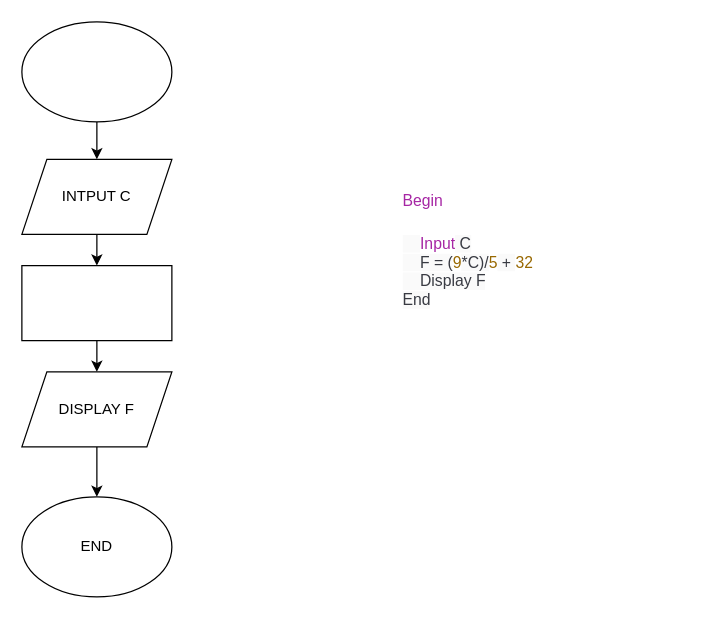
Some shapes in this 719 by 619 pixel diagram are drawn without their labels. Here are the shapes that lost their labels. From the top down, the centre of each, then its label:
At (96,71): "BEGIN".
At (96,302): "F=(9*C)/5+32".
